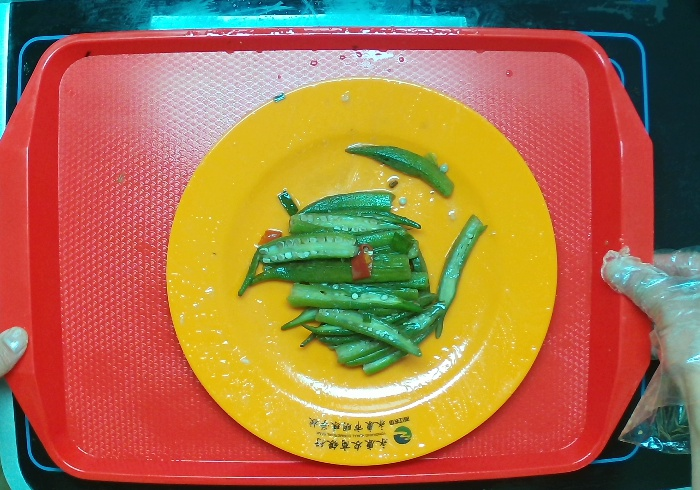YKMZ-Ju_Se_Mian_Pan: (161, 73, 560, 468)
